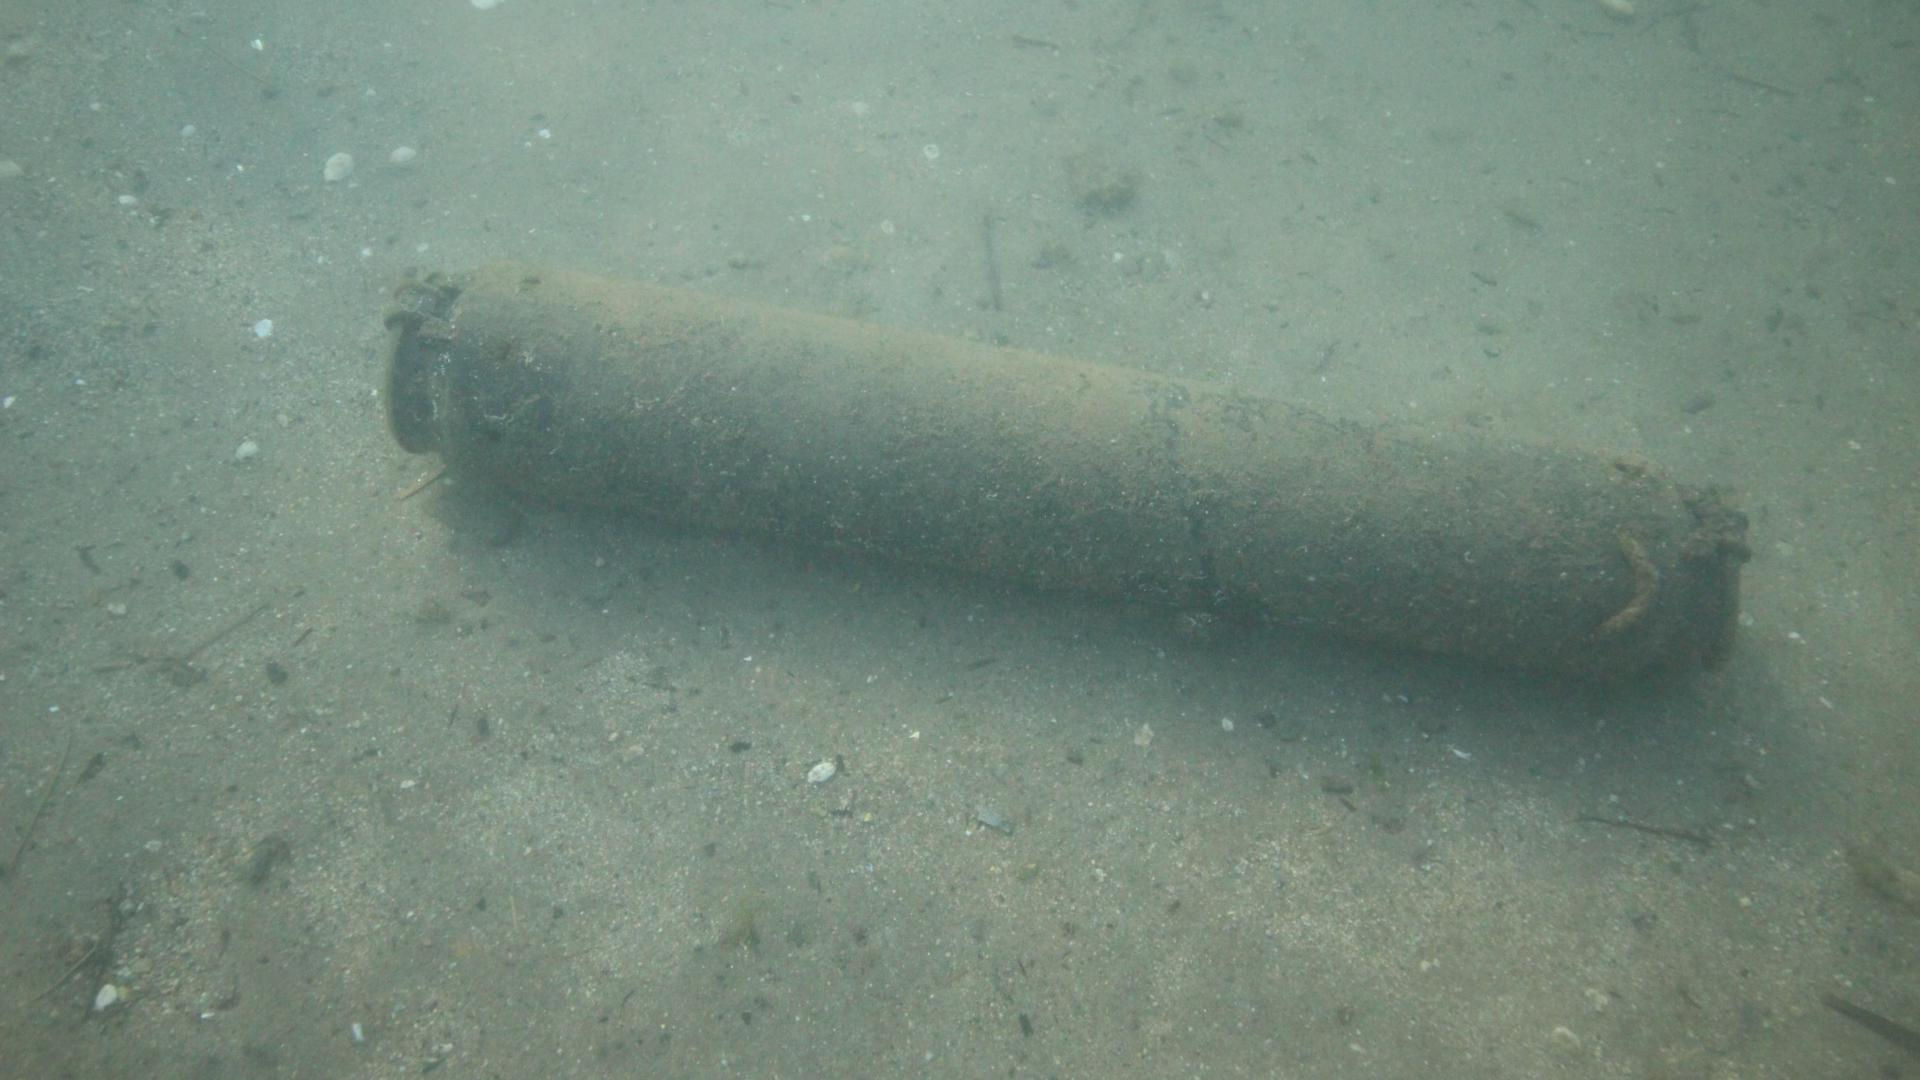eel fish trap: (386, 258, 1739, 676)
